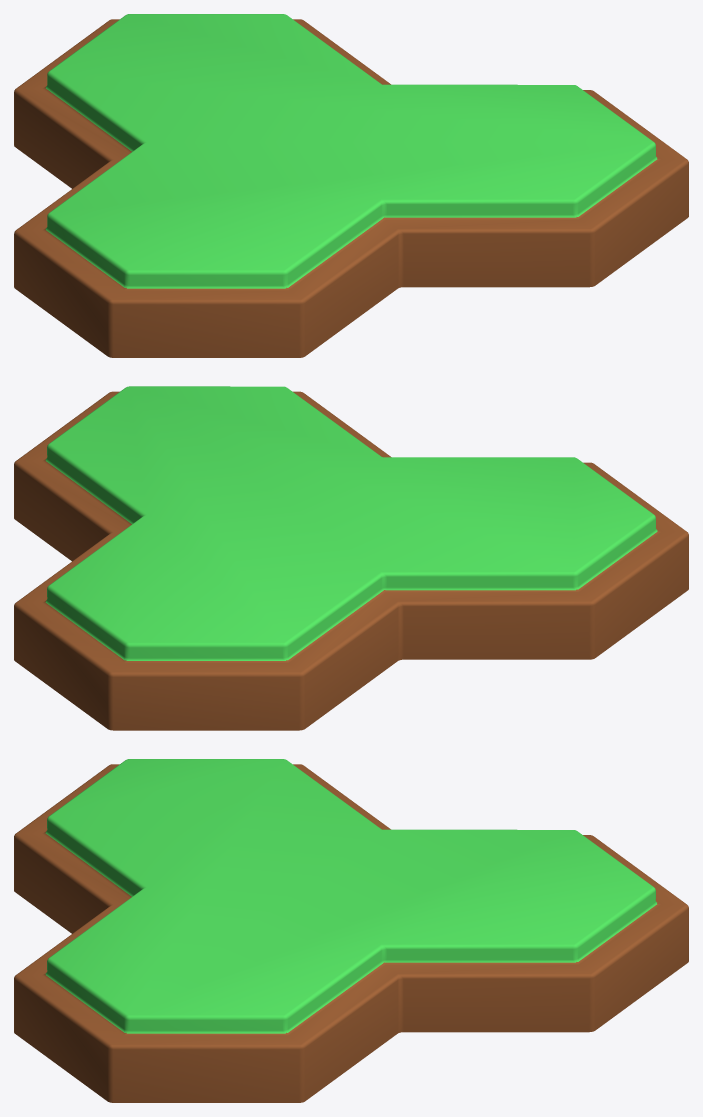
The model's file is Tile_Big.fbx.
3 views of the same model, one above another, from view 1: azimuth 30°, elevation 25°; view 2: azimuth 150°, elevation 25°; view 3: azimuth 270°, elevation 25° (orthographic).
Parts seen in each view (by area): view 1: TileBig; view 2: TileBig; view 3: TileBig.
Part boxes in pixels (x1,y1,x2,y2): TileBig: [14, 14, 688, 357]; TileBig: [14, 386, 688, 730]; TileBig: [14, 759, 688, 1102].
Bounding box in the file's own units: 346 × 42.3 × 349.
